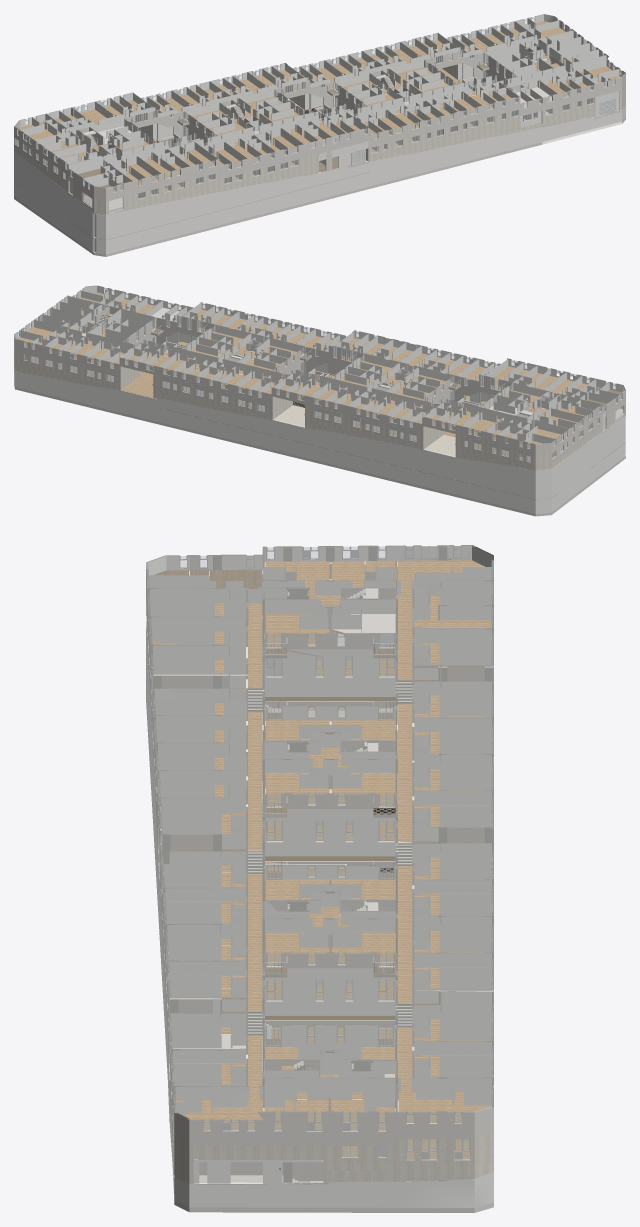
File: apolo_corte_p1.glb
3 renders of one model, top to bottom at view 1: azimuth 30°, elevation 25°; view 2: azimuth 150°, elevation 25°; view 3: azimuth 270°, elevation 25°, orthographic. The views are drawn at different scales.
Parts seen in each view (by area): view 1: envolvente__T2__APOLO V6 | Pintura interior blanca mate, envolvente__T2__APOLO V6 | Monocapa blanco roto 5pct calido, envolvente__T2__APOLO V3 | Vinilo roble natural claro, envolvente__T2__APOLO V6 | Travertino marfil veta vertical, envolvente__T2__APOLO V6 | Aluminio plata grata, carpinteria__T0__APOLO V6 | Aluminio plata grata, carpinteria__T5__APOLO V6 | Aluminio plata grata, envolvente__T2__APOLO | Tarima exterior greige, carpinteria__T1__APOLO V6 | Aluminio plata grata, carpinteria__T3__APOLO V6 | Aluminio plata grata, carpinteria__T4__APOLO V6 | Aluminio plata grata, carpinteria__T2__APOLO V6 | Aluminio plata grata (+2 smaller); view 2: envolvente__T2__APOLO V6 | Pintura interior blanca mate, envolvente__T2__APOLO V6 | Monocapa blanco roto 5pct calido, envolvente__T2__APOLO V6 | Travertino marfil veta vertical, envolvente__T2__APOLO V3 | Vinilo roble natural claro, envolvente__T2__APOLO V6 | Aluminio plata grata, carpinteria__T2__APOLO V6 | Aluminio plata grata, carpinteria__T4__APOLO V6 | Aluminio plata grata, carpinteria__T0__APOLO V6 | Aluminio plata grata, carpinteria__T6__APOLO V6 | Aluminio plata grata, envolvente__T0__APOLO V6 | PAMESA WELLS Ivory 120x60, envolvente__T4__APOLO V6 | PAMESA WELLS Ivory 120x60; view 3: envolvente__T2__APOLO V6 | Pintura interior blanca mate, envolvente__T2__APOLO V3 | Vinilo roble natural claro, envolvente__T2__APOLO V6 | Monocapa blanco roto 5pct calido, envolvente__T2__APOLO V6 | Travertino marfil veta vertical, envolvente__T2__APOLO | Tarima exterior greige, carpinteria__T6__APOLO V6 | Aluminio plata grata, envolvente__T2__SERENEA V3 | Tierra y acolchado de jardinera, carpinteria__T0__APOLO V6 | Aluminio plata grata, carpinteria__T2__APOLO V6 | Aluminio plata grata, carpinteria__T4__APOLO V6 | Aluminio plata grata, pilar__T0__APOLO | Hormigon gris claro, pilar__T2__APOLO | Hormigon gris claro (+2 smaller).
Part boxes in pixels (<box>): envolvente__T2__APOLO V6 | Pintura interior blanca mate: <box>14,14,625,254</box>; envolvente__T2__APOLO V6 | Monocapa blanco roto 5pct calido: <box>14,14,625,256</box>; envolvente__T2__APOLO V3 | Vinilo roble natural claro: <box>19,21,620,194</box>; envolvente__T2__APOLO V6 | Travertino marfil veta vertical: <box>14,64,625,214</box>; envolvente__T2__APOLO V6 | Aluminio plata grata: <box>135,50,507,147</box>; carpinteria__T0__APOLO V6 | Aluminio plata grata: <box>14,95,154,182</box>; carpinteria__T5__APOLO V6 | Aluminio plata grata: <box>371,96,518,153</box>; envolvente__T2__APOLO | Tarima exterior greige: <box>77,63,563,191</box>; carpinteria__T1__APOLO V6 | Aluminio plata grata: <box>70,160,215,213</box>; carpinteria__T3__APOLO V6 | Aluminio plata grata: <box>224,127,368,184</box>; carpinteria__T4__APOLO V6 | Aluminio plata grata: <box>295,34,454,109</box>; carpinteria__T2__APOLO V6 | Aluminio plata grata: <box>143,64,306,139</box>; envolvente__T2__APOLO V6 | Pintura interior blanca mate: <box>14,286,625,513</box>; envolvente__T2__APOLO V6 | Monocapa blanco roto 5pct calido: <box>14,285,625,516</box>; envolvente__T2__APOLO V6 | Travertino marfil veta vertical: <box>14,348,625,470</box>; envolvente__T2__APOLO V3 | Vinilo roble natural claro: <box>18,292,605,461</box>; envolvente__T2__APOLO V6 | Aluminio plata grata: <box>132,315,502,415</box>; carpinteria__T2__APOLO V6 | Aluminio plata grata: <box>276,355,453,442</box>; carpinteria__T4__APOLO V6 | Aluminio plata grata: <box>125,326,304,412</box>; carpinteria__T0__APOLO V6 | Aluminio plata grata: <box>432,384,601,463</box>; carpinteria__T6__APOLO V6 | Aluminio plata grata: <box>17,297,155,381</box>; envolvente__T0__APOLO V6 | PAMESA WELLS Ivory 120x60: <box>425,435,455,456</box>; envolvente__T4__APOLO V6 | PAMESA WELLS Ivory 120x60: <box>221,362,304,426</box>; envolvente__T2__APOLO V6 | Pintura interior blanca mate: <box>146,546,493,1207</box>; envolvente__T2__APOLO V3 | Vinilo roble natural claro: <box>152,560,491,1158</box>; envolvente__T2__APOLO V6 | Monocapa blanco roto 5pct calido: <box>146,545,493,1212</box>; envolvente__T2__APOLO V6 | Travertino marfil veta vertical: <box>146,594,493,1184</box>; envolvente__T2__APOLO | Tarima exterior greige: <box>147,561,484,1111</box>; carpinteria__T6__APOLO V6 | Aluminio plata grata: <box>265,1010,493,1160</box>; envolvente__T2__SERENEA V3 | Tierra y acolchado de jardinera: <box>265,697,395,1020</box>; carpinteria__T0__APOLO V6 | Aluminio plata grata: <box>266,545,493,677</box>; carpinteria__T2__APOLO V6 | Aluminio plata grata: <box>266,690,493,842</box>; carpinteria__T4__APOLO V6 | Aluminio plata grata: <box>266,852,493,1001</box>; pilar__T0__APOLO | Hormigon gris claro: <box>262,545,493,690</box>; pilar__T2__APOLO | Hormigon gris claro: <box>262,699,493,842</box>.
Size of the model in its own units: 111 by 14.85 by 31.2.
28 materials, 7 textured.
